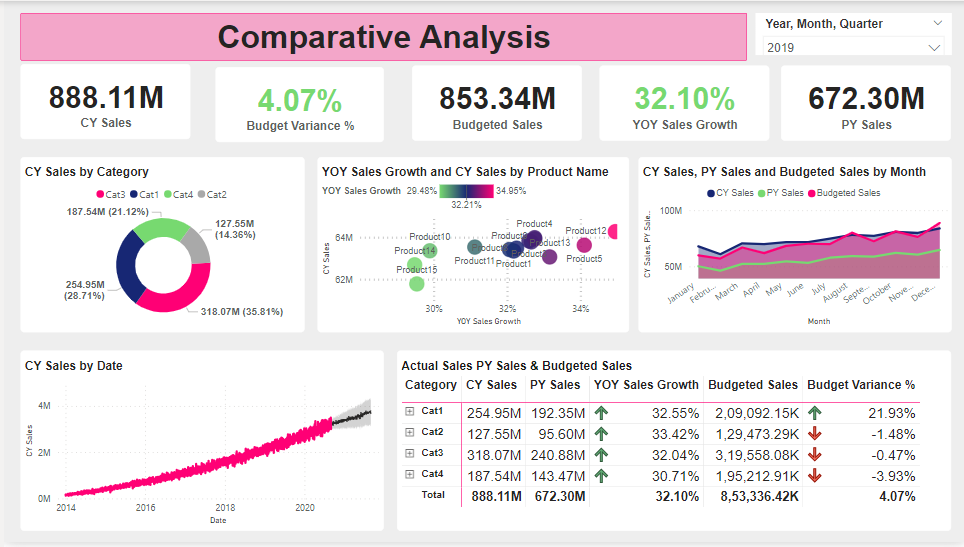

What the dashboard file says about the page in this screenshot:
{"tool":"powerbi","page":{"name":"Dashboard","canvas":[1280,720],"ordinal":0},"visuals":[{"type":"card","fields":{"Values":["Budget.CY Sales"]},"box":[22.3,84.2,225.7,100],"z":0},{"type":"card","fields":{"Values":["Budget.Budgeted Sales"]},"box":[543.6,85.8,225.7,100.1],"z":1000},{"type":"card","fields":{"Values":["Budget.YOY Sales Growth"]},"box":[791.5,85.8,225.7,100.1],"z":2000},{"type":"card","fields":{"Values":["Budget.Budget Variance %"]},"box":[281.3,87.4,224.1,100.1],"z":3000},{"type":"card","fields":{"Values":["Budget.PY Sales"]},"box":[1034.7,85.8,225.7,100.1],"z":4000},{"type":"slicer","fields":{"Values":["Date Dim.Year","Date Dim.Month","Date Dim.Quarter"]},"box":[999.9,16,261.5,55.9],"z":5000},{"type":"donutChart","fields":{"Category":["Product Master.Category"],"Y":["MeasureTable.CY Sales"]},"box":[22.3,206.6,378.3,233.6],"z":6000},{"type":"scatterChart","fields":{"X":["MeasureTable.YOY Sales Growth"],"Y":["MeasureTable.CY Sales"],"Category":["Product Master.Product Name"]},"box":[416.4,206.6,414.8,233.6],"z":7000},{"type":"areaChart","fields":{"Y":["MeasureTable.CY Sales","MeasureTable.PY Sales","MeasureTable.Budgeted Sales"],"Category":["Date Dim.Month"]},"box":[844,206.6,416.4,233.6],"z":8000},{"type":"lineChart","fields":{"Y":["MeasureTable.CY Sales"],"Category":["Date Dim.Date"]},"box":[22.3,465.7,483.2,240],"z":9000},{"type":"pivotTable","title":"Actual Sales PY Sales & Budgeted Sales","fields":{"Rows":["Product Master.Category","Product Master.Product Name"],"Values":["MeasureTable.CY Sales","MeasureTable.PY Sales","MeasureTable.YOY Sales Growth","MeasureTable.Budgeted Sales","MeasureTable.Budget Variance %"]},"box":[522.9,465.7,737.5,240],"z":10000},{"type":"textbox","box":[22.3,15.9,966.4,63.6],"z":11000}]}

Visuals, with their boxes in screenshot pixels (x1, y1, x2, y2), scaled from the page's 1280x720 canvas onto the 964x547 screenshot:
card - Budget.CY Sales: locate(17, 64, 187, 140)
card - Budget.Budgeted Sales: locate(409, 65, 579, 141)
card - Budget.YOY Sales Growth: locate(596, 65, 766, 141)
card - Budget.Budget Variance %: locate(212, 66, 381, 142)
card - Budget.PY Sales: locate(779, 65, 949, 141)
slicer - Date Dim.Year x Date Dim.Month: locate(753, 12, 950, 55)
donutChart - Product Master.Category x MeasureTable.CY Sales: locate(17, 157, 302, 334)
scatterChart - MeasureTable.YOY Sales Growth x MeasureTable.CY Sales: locate(314, 157, 626, 334)
areaChart - MeasureTable.CY Sales x MeasureTable.PY Sales: locate(636, 157, 949, 334)
lineChart - MeasureTable.CY Sales x Date Dim.Date: locate(17, 354, 381, 536)
"Actual Sales PY Sales & Budgeted Sales" pivotTable: locate(394, 354, 949, 536)
textbox: locate(17, 12, 745, 60)
